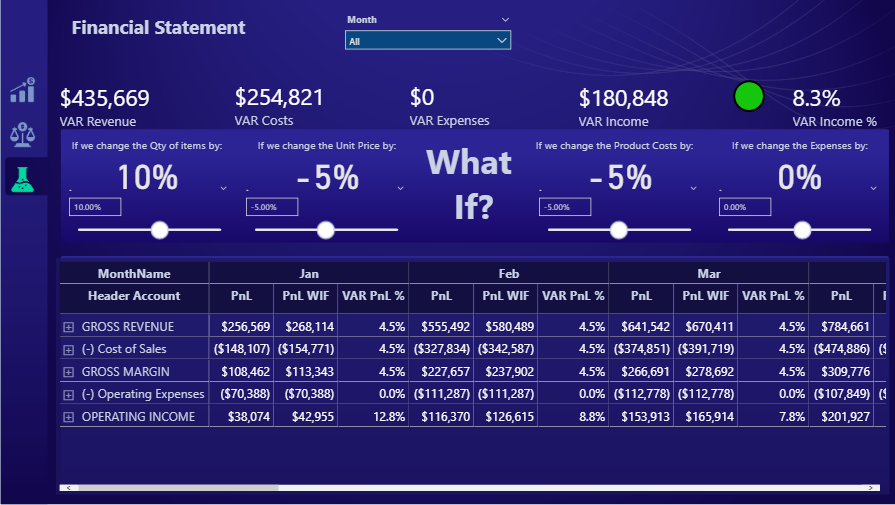

What the dashboard file says about the page in this screenshot:
{"tool":"powerbi","page":{"name":"Financial Statement","canvas":[1280,720],"ordinal":2},"visuals":[{"type":"textbox","box":[96,16,384,64],"z":0},{"type":"slicer","fields":{"Values":["Date.Date.Variation.Date Hierarchy.Month"]},"box":[480,16,256,64],"z":1000},{"type":"image","box":[0,96,64,64],"z":2000},{"type":"image","box":[0,224,64,64],"z":3000},{"type":"image","box":[0,160,64,64],"z":4000},{"type":"multiRowCard","title":"Operational revenue","fields":{"Values":["Simulator.VAR Revenue"]},"box":[80,112,208,80],"z":5000},{"type":"multiRowCard","title":"Operational revenue","fields":{"Values":["Simulator.VAR Costs"]},"box":[328,110.5,208,80],"z":6000},{"type":"multiRowCard","title":"Operational revenue","fields":{"Values":["Simulator.VAR Expenses"]},"box":[576,110.5,208,80],"z":7000},{"type":"multiRowCard","title":"Operational revenue","fields":{"Values":["Simulator.VAR Income %"]},"box":[1120,112,144,80],"z":8000},{"type":"slicer","fields":{"Values":["WIFQtz.WIFQtz"]},"box":[85.2,253.6,250,100],"z":9000},{"type":"slicer","fields":{"Values":["WIFUnitPrice.WIFUnitPrice"]},"box":[336,254,250,100],"z":10000},{"type":"slicer","fields":{"Values":["WIFCosts.WIFCosts"]},"box":[752,254,250,100],"z":11000},{"type":"slicer","fields":{"Values":["WIFExpenses.WIFExpenses"]},"box":[1008,254,250,100],"z":12000},{"type":"card","fields":{"Values":["WIFQty.WIFQty Value"]},"box":[112,208,192,80],"z":13000},{"type":"card","fields":{"Values":["WIFUnitPrice.WIFUnitPrice Value"]},"box":[368,208,192,80],"z":14000},{"type":"card","fields":{"Values":["WIFCosts.WIFCosts Value"]},"box":[784,208,192,80],"z":15000},{"type":"card","fields":{"Values":["WIFExpenses.WIFExpenses Value"]},"box":[1040,208,192,80],"z":16000},{"type":"pivotTable","fields":{"Rows":["AccountHeader.Header Account","Account.Subheader Account","Account.Detailed Account"],"Values":["KeyMeasures.PnL","Simulator.PnL WIF","Simulator.VAR PnL %"],"Columns":["Date.MonthName"]},"box":[80,368,1184,336],"z":17000},{"type":"textbox","box":[576,192,192,144],"z":18000},{"type":"textbox","box":[96,192,224,64],"z":19000},{"type":"textbox","box":[352,192,224,64],"z":20000},{"type":"textbox","box":[752,192,240,64],"z":21000},{"type":"textbox","box":[1024,192,224,64],"z":22000},{"type":"multiRowCard","title":"Operational revenue","fields":{"Values":["Simulator.VAR Income"]},"box":[816,112,208,80],"z":23000},{"type":"card","fields":{"Values":["Simulator.Income KPI"]},"box":[1024,96,80,80],"z":24000}]}

Visuals, with their boxes in screenshot pixels (x1, y1, x2, y2), scaled from the page's 1280x720 canvas onto the 895x505 screenshot:
textbox: select_region(67, 11, 336, 56)
slicer - Date.Date.Variation.Date Hierarchy.Month: select_region(336, 11, 515, 56)
image: select_region(0, 67, 45, 112)
image: select_region(0, 157, 45, 202)
image: select_region(0, 112, 45, 157)
"Operational revenue" multiRowCard: select_region(56, 79, 201, 135)
"Operational revenue" multiRowCard: select_region(229, 78, 375, 134)
"Operational revenue" multiRowCard: select_region(403, 78, 548, 134)
"Operational revenue" multiRowCard: select_region(783, 79, 884, 135)
slicer - WIFQtz.WIFQtz: select_region(60, 178, 234, 248)
slicer - WIFUnitPrice.WIFUnitPrice: select_region(235, 178, 410, 248)
slicer - WIFCosts.WIFCosts: select_region(526, 178, 701, 248)
slicer - WIFExpenses.WIFExpenses: select_region(705, 178, 880, 248)
card - WIFQty.WIFQty Value: select_region(78, 146, 213, 202)
card - WIFUnitPrice.WIFUnitPrice Value: select_region(257, 146, 392, 202)
card - WIFCosts.WIFCosts Value: select_region(548, 146, 682, 202)
card - WIFExpenses.WIFExpenses Value: select_region(727, 146, 861, 202)
pivotTable - AccountHeader.Header Account x Account.Subheader Account: select_region(56, 258, 884, 494)
textbox: select_region(403, 135, 537, 236)
textbox: select_region(67, 135, 224, 180)
textbox: select_region(246, 135, 403, 180)
textbox: select_region(526, 135, 694, 180)
textbox: select_region(716, 135, 873, 180)
"Operational revenue" multiRowCard: select_region(571, 79, 716, 135)
card - Simulator.Income KPI: select_region(716, 67, 772, 123)
